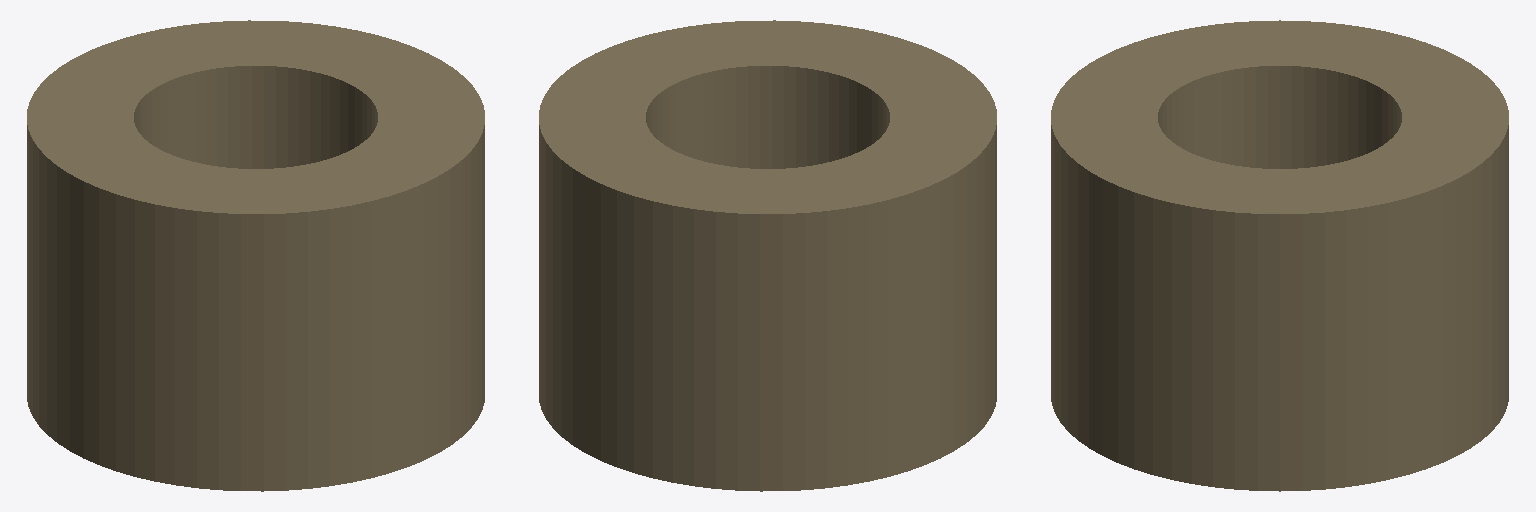
The robot description file, URDF, robot "ring":
<?xml version="1.0"?>
<robot name="ring">
  <link name="base_link">
    <visual>
      <origin xyz="0 0 0" rpy="0 0 0" />
      <geometry>
        <mesh filename="ring.obj"/>      
      </geometry>
      <material name="tan">
        <color rgba="0.55 0.5 0.4 1"/>
      </material>
    </visual>
    <collision>
      <origin xyz="0 0 0" rpy="0 0 0" />
      <geometry>
        <mesh filename="ring.obj"/>
      </geometry>
    </collision>
  </link>
</robot>

--- Render facts (derived) ---
3 views of the same robot in one strip: view 1: azimuth 30°, elevation 25°; view 2: azimuth 150°, elevation 25°; view 3: azimuth 270°, elevation 25° (orthographic).
Robot: ring — 1 links, 0 joints (none); root link base_link; default pose: all joints at 0.
Visible links, largest first — view 1: base_link; view 2: base_link; view 3: base_link.
Link boxes in pixels (x1=…): base_link: x1=27, y1=20, x2=484, y2=491; base_link: x1=539, y1=20, x2=996, y2=491; base_link: x1=1051, y1=20, x2=1508, y2=491.
Bounding box of the posed robot: 19.05 × 19.05 × 12.7 m (x, y, z).
1 mesh visuals loaded from 1 distinct referenced files (1 OBJ).
